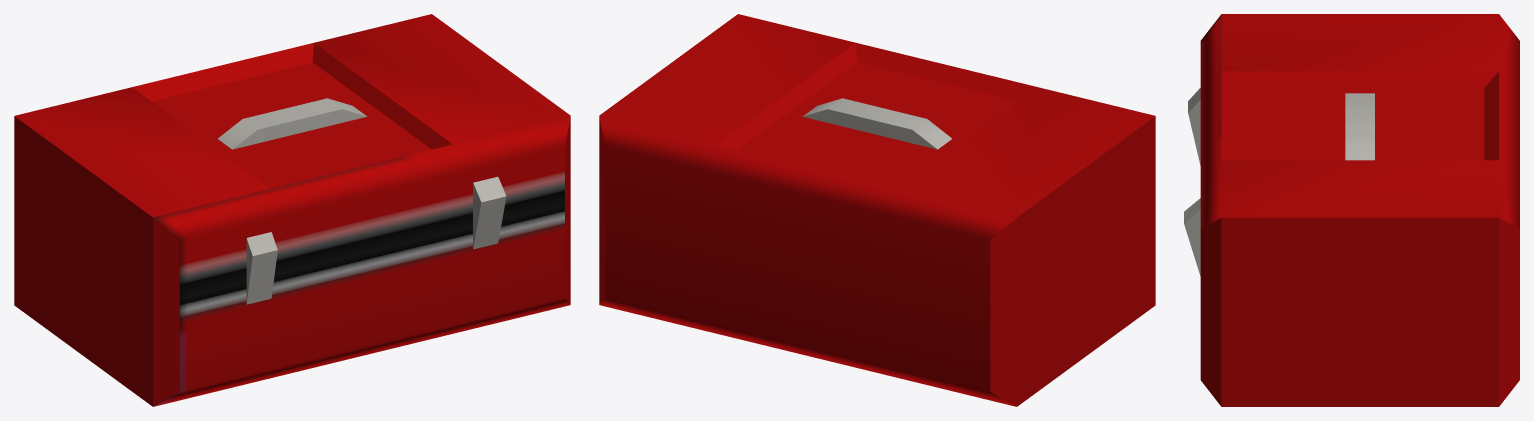
File: Tool_Box.fbx
The picture shows the model from 3 angles, left to right: view 1: azimuth 30°, elevation 25°; view 2: azimuth 150°, elevation 25°; view 3: azimuth 270°, elevation 25°; orthographic projection.
Parts seen in each view (by area): view 1: Maya_File_Assets:TexturedAssetsCurrent:ToolChest; view 2: Maya_File_Assets:TexturedAssetsCurrent:ToolChest; view 3: Maya_File_Assets:TexturedAssetsCurrent:ToolChest.
Boxes of the visible parts, x1,y1,x2,y2 form: Maya_File_Assets:TexturedAssetsCurrent:ToolChest: [14, 14, 570, 406]; Maya_File_Assets:TexturedAssetsCurrent:ToolChest: [599, 14, 1155, 406]; Maya_File_Assets:TexturedAssetsCurrent:ToolChest: [1184, 14, 1519, 406].
Size of the model in its own units: 0.4642 by 0.203 by 0.3235.
